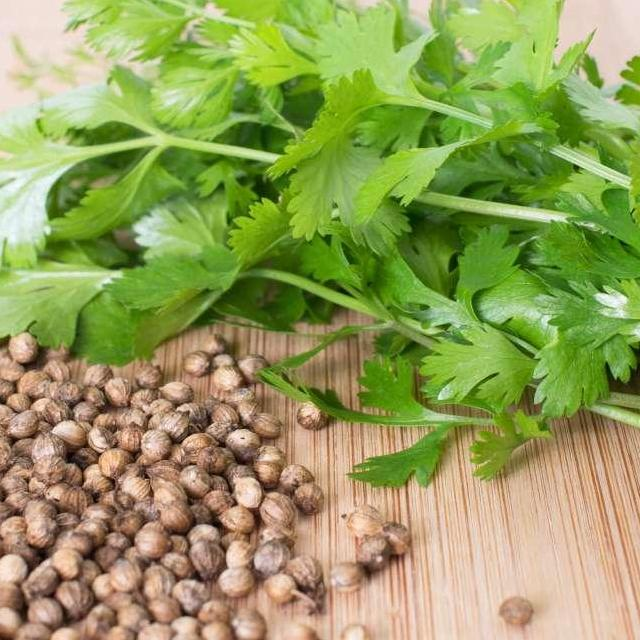cilantro: (0, 0, 640, 413)
